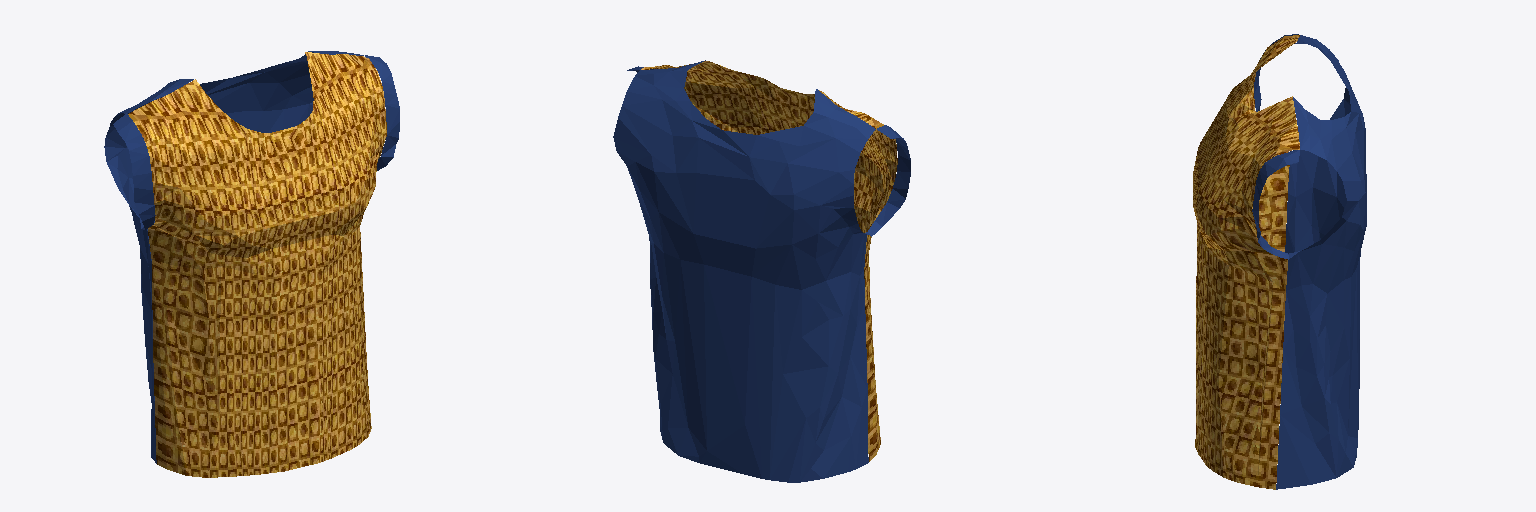
The picture shows the model from 3 angles: view 1: azimuth 30°, elevation 25°; view 2: azimuth 150°, elevation 25°; view 3: azimuth 270°, elevation 25°; orthographic projection.
Visible parts, largest first — view 1: T_shirt.004; view 2: T_shirt.004; view 3: T_shirt.004.
Part boxes in pixels (x1,y1,x2,y2): T_shirt.004: (104,51,399,477); T_shirt.004: (613,60,910,482); T_shirt.004: (1193,34,1366,489).
Bounding box in the file's own units: 0.2935 × 0.3892 × 0.1639.
Materials: 2 (1 with a texture image).